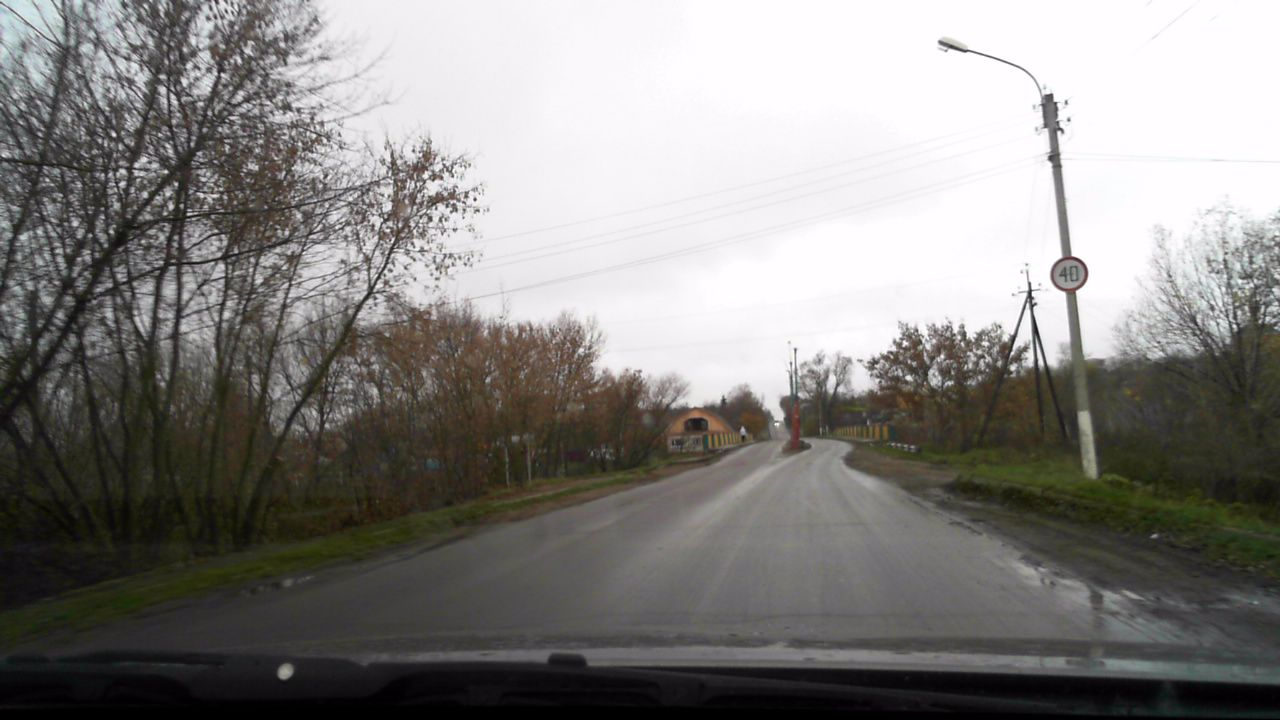speed_warning_40: (1050, 256, 1088, 294)
